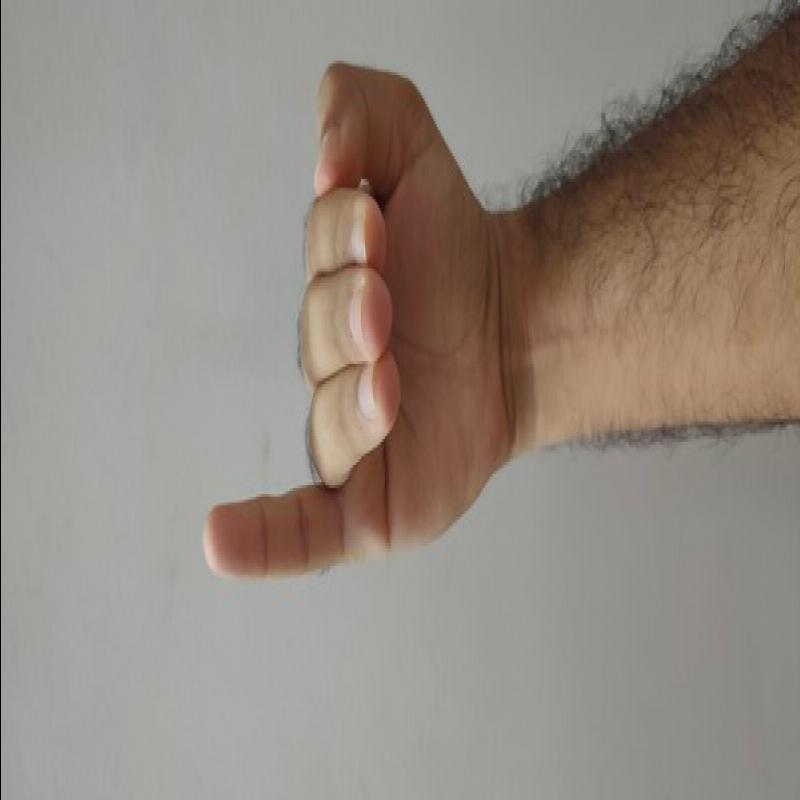Kartharee Mukham: (158, 51, 531, 603)
